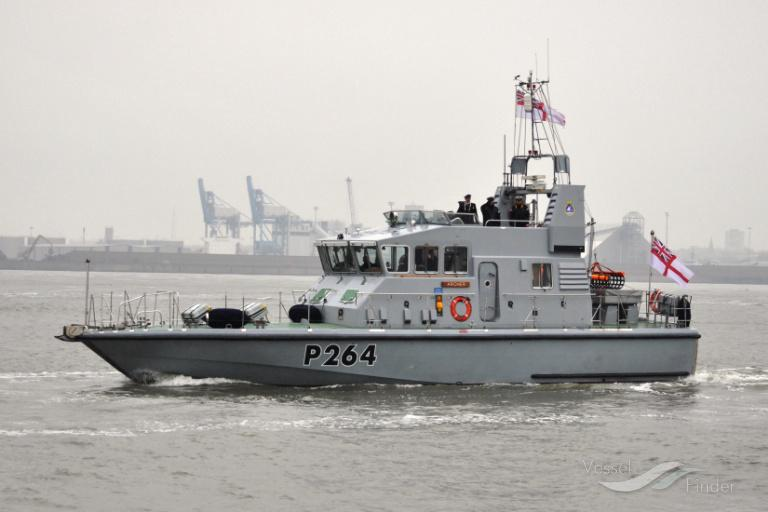OCR: (296, 336, 382, 369)
